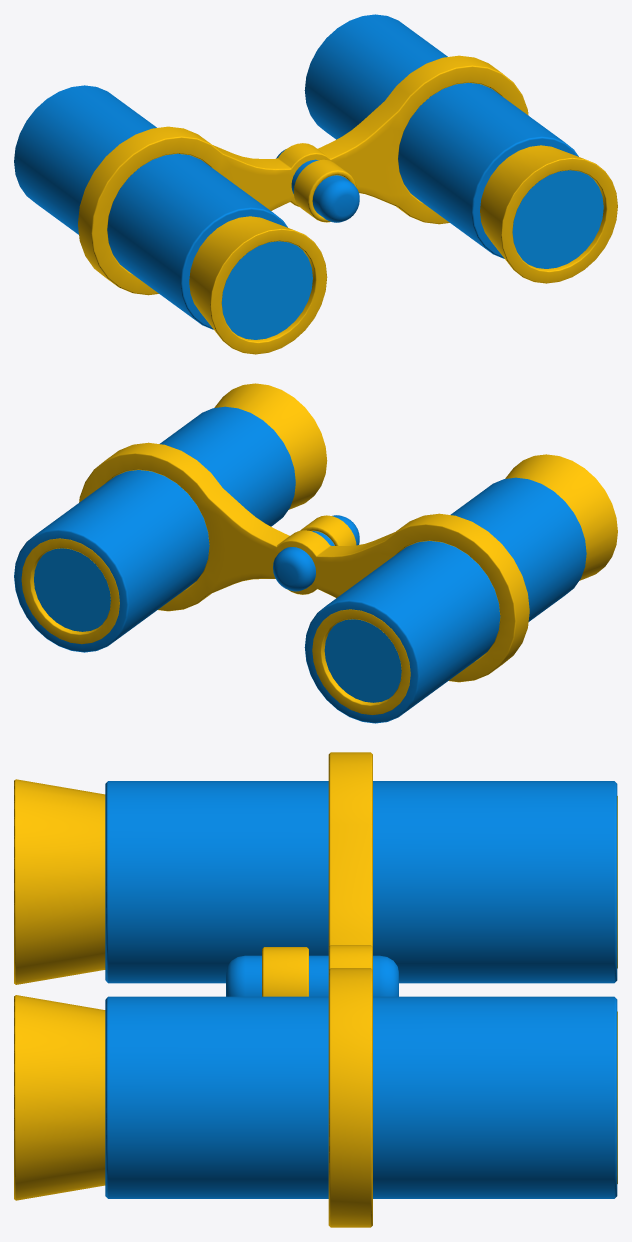
The model's file is Public_12_Binoculars_3.glb.
The picture shows the model from 3 angles, top to bottom: view 1: azimuth 30°, elevation 25°; view 2: azimuth 150°, elevation 25°; view 3: azimuth 270°, elevation 25°; orthographic projection. The views are drawn at different scales.
Visible parts, largest first — view 1: Public_12_Binoculars_3; view 2: Public_12_Binoculars_3; view 3: Public_12_Binoculars_3.
Part boxes in pixels (bbox=[...]): Public_12_Binoculars_3: bbox=[14, 14, 617, 354]; Public_12_Binoculars_3: bbox=[14, 383, 617, 723]; Public_12_Binoculars_3: bbox=[14, 752, 617, 1227].
Bounding box in the file's own units: 2.93 × 0.9866 × 2.29.
Materials: 1 (1 with a texture image).
